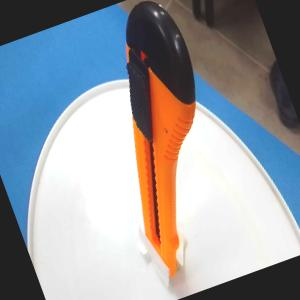estilete: (68, 0, 258, 281)
